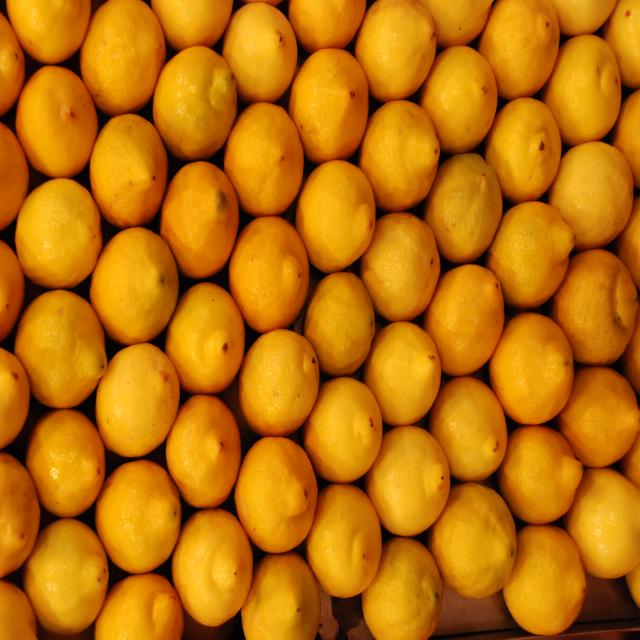lemon: (14, 289, 107, 407), (90, 227, 180, 347), (172, 509, 256, 627), (486, 200, 576, 310), (552, 250, 637, 366), (23, 520, 108, 635), (95, 460, 182, 572), (15, 179, 102, 291), (490, 314, 578, 424), (95, 344, 181, 456), (165, 284, 248, 399), (160, 161, 242, 277), (151, 50, 239, 158), (235, 436, 317, 551), (429, 483, 512, 596), (15, 67, 98, 179), (166, 395, 246, 509), (88, 114, 168, 228), (224, 104, 304, 217), (229, 218, 309, 330), (24, 410, 106, 519), (165, 391, 244, 503), (550, 142, 633, 248), (238, 331, 318, 440), (498, 427, 584, 525), (427, 263, 504, 371), (425, 153, 500, 263), (486, 97, 564, 202), (367, 428, 444, 534), (557, 367, 639, 466), (565, 468, 640, 576), (308, 372, 382, 481), (364, 104, 438, 212), (428, 377, 504, 481), (362, 538, 439, 639), (296, 162, 368, 270), (422, 47, 496, 152), (367, 215, 439, 320), (365, 321, 437, 424), (356, 0, 428, 102), (241, 551, 319, 638), (304, 379, 369, 478), (304, 275, 365, 371)
